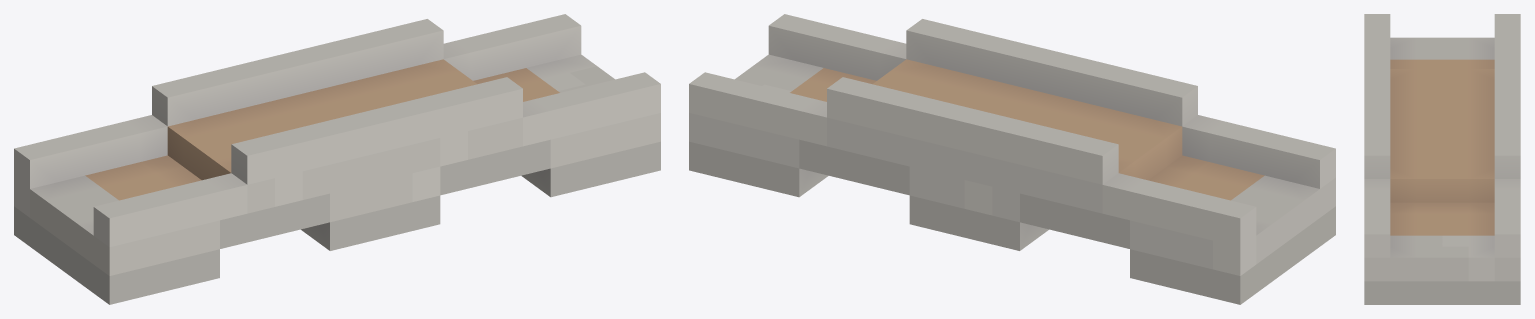
File: decor_bridge_2.glb
3 views of the same model, side by side, from view 1: azimuth 30°, elevation 25°; view 2: azimuth 150°, elevation 25°; view 3: azimuth 270°, elevation 25° (orthographic). The views are drawn at different scales.
Visible parts, largest first — view 1: decor_bridge_2; view 2: decor_bridge_2; view 3: decor_bridge_2.
Part boxes in pixels (x1=…): decor_bridge_2: x1=14, y1=14, x2=660, y2=304; decor_bridge_2: x1=689, y1=14, x2=1335, y2=304; decor_bridge_2: x1=1364, y1=14, x2=1520, y2=304.
Bounding box in the file's own units: 2.5 × 0.5 × 0.75.
